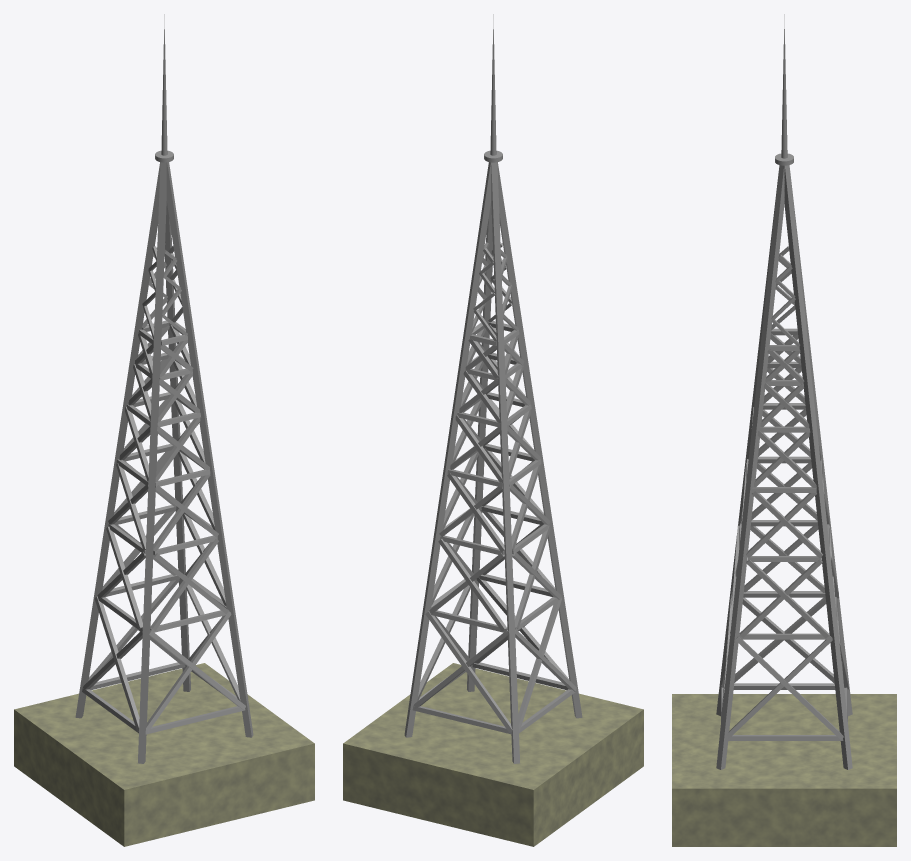
The model's file is radioTower.fbx.
3 views of the same model, side by side, from view 1: azimuth 30°, elevation 25°; view 2: azimuth 150°, elevation 25°; view 3: azimuth 270°, elevation 25° (orthographic). The views are drawn at different scales.
Visible parts, largest first — view 1: Base, Frame2, Frame3, Frame1, Frame4, dp1 (×3), dn1 (×2), dn2 (×2), h1 (×2), dp2, dn3, dp3; view 2: Base, Frame1, Frame4, Frame2, Frame3, dp1 (×3), dn1 (×3), h1 (×2), dp2, dn2, dp3; view 3: Base, Frame4, Frame3, dp1 (×2), dn1 (×2), Frame1, h1 (×2), Frame2, dp2 (×2), dn2 (×2), h2 (×2), dp3 (+4 smaller).
Part boxes in pixels (x1,y1,x2,y2): Base: [14, 663, 314, 846]; Frame2: [138, 162, 166, 763]; Frame3: [166, 162, 253, 737]; Frame1: [75, 162, 160, 718]; Frame4: [164, 201, 190, 691]; dp1 (×3): [88, 577, 245, 732]; dn1 (×2): [146, 579, 240, 732]; dn2 (×2): [150, 513, 226, 630]; h1 (×2): [90, 662, 245, 734]; dp2: [106, 526, 142, 629]; dn3: [153, 474, 210, 550]; dp3: [116, 463, 146, 550]; Base: [343, 663, 643, 846]; Frame1: [491, 162, 519, 763]; Frame4: [404, 162, 491, 737]; Frame2: [497, 162, 582, 718]; Frame3: [467, 201, 493, 691]; dp1 (×3): [417, 585, 576, 733]; dn1 (×3): [413, 577, 569, 731]; h1 (×2): [412, 662, 568, 734]; dp2: [438, 539, 506, 631]; dn2: [514, 526, 550, 628]; dp3: [447, 473, 504, 551]; Base: [672, 694, 896, 846]; Frame4: [784, 165, 852, 769]; Frame3: [716, 165, 784, 769]; dp1 (×2): [734, 597, 843, 739]; dn1 (×2): [726, 597, 834, 739]; Frame1: [790, 173, 852, 716]; h1 (×2): [725, 683, 843, 740]; Frame2: [716, 173, 778, 716]; dp2 (×2): [744, 526, 829, 638]; dn2 (×2): [739, 526, 824, 637]; h2 (×2): [739, 591, 829, 639]; dp3: [752, 491, 822, 558].
Size of what is drawn, in the model's own units: 700 by 2700 by 700.
2 materials, 1 textured.
